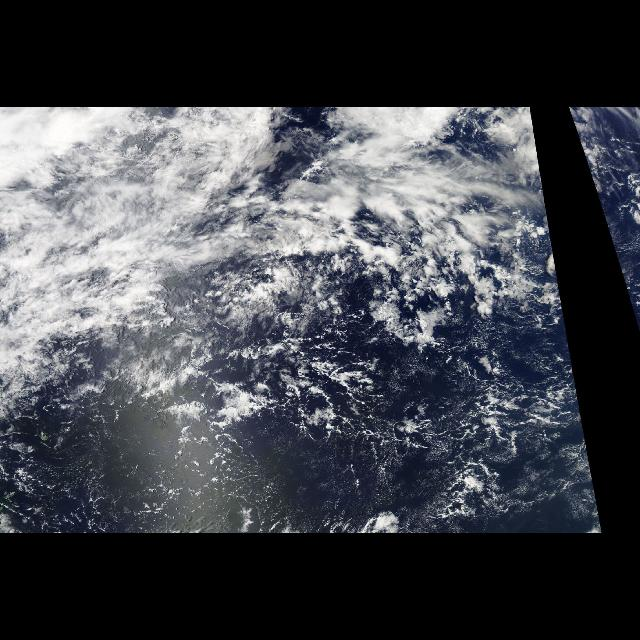Gravel: (110, 298, 578, 526)
